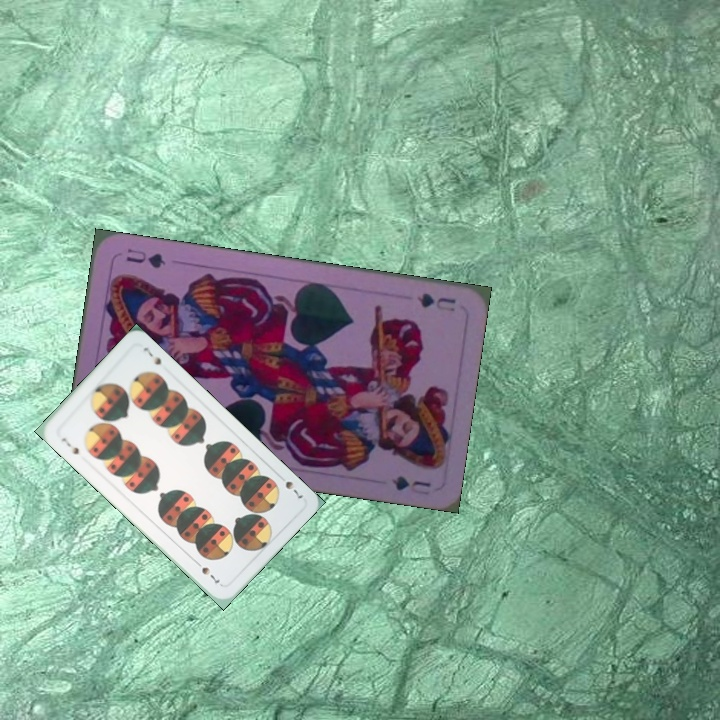GU: (412, 289, 459, 314)
S7: (281, 477, 306, 501), (57, 434, 82, 457)
